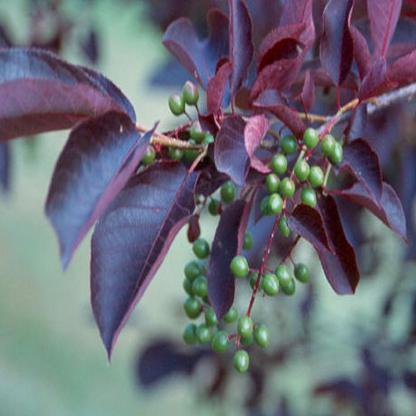Cherry leaf: (88, 135, 200, 384), (203, 184, 264, 338), (296, 182, 364, 311), (209, 96, 272, 194), (280, 188, 340, 258), (335, 140, 386, 221)
